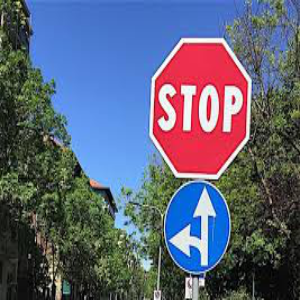STOP_SIGN: (148, 36, 251, 179)
